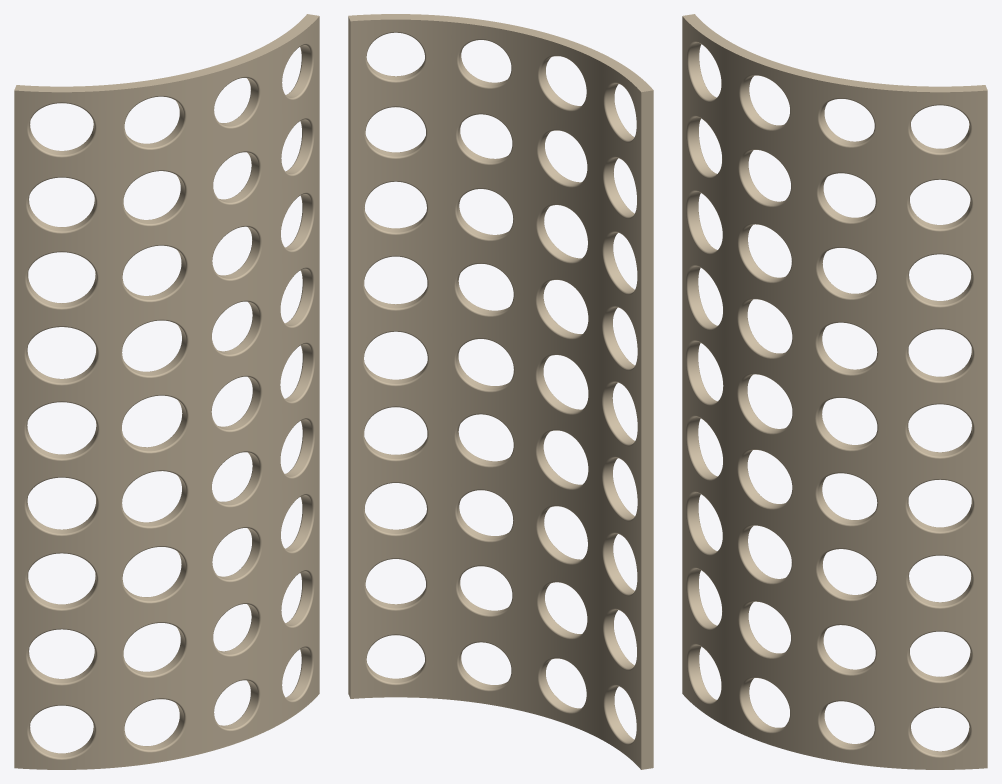
3 renders of one model, left to right at view 1: azimuth 30°, elevation 25°; view 2: azimuth 150°, elevation 25°; view 3: azimuth 330°, elevation 25°, orthographic.
Visible parts, largest first — view 1: VEIL | continuous perforated shell; view 2: VEIL | continuous perforated shell; view 3: VEIL | continuous perforated shell.
Boxes of the visible parts, bbox=[...] form: VEIL | continuous perforated shell: bbox=[14, 14, 319, 769]; VEIL | continuous perforated shell: bbox=[348, 14, 653, 769]; VEIL | continuous perforated shell: bbox=[682, 14, 987, 769].
Size of the model in its own units: 0.2642 by 0.56 by 0.0557.
